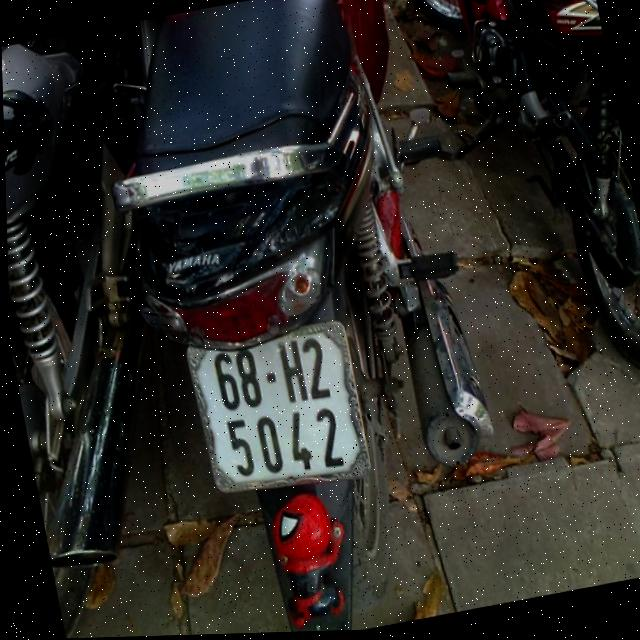motorcycle: (81, 0, 529, 638), (389, 0, 640, 415)
plate: (177, 313, 380, 513)
